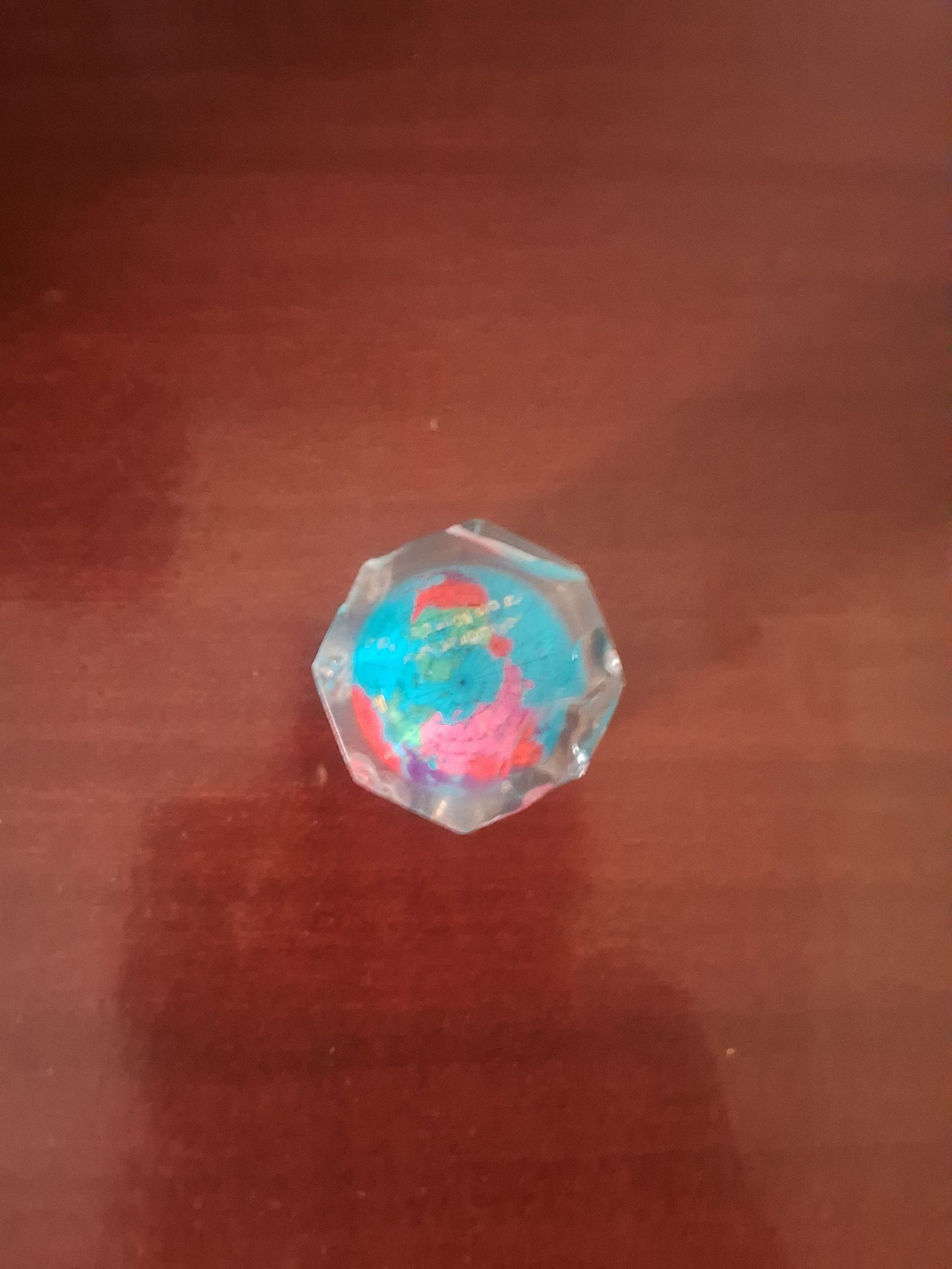world_globe: (301, 501, 631, 847)
